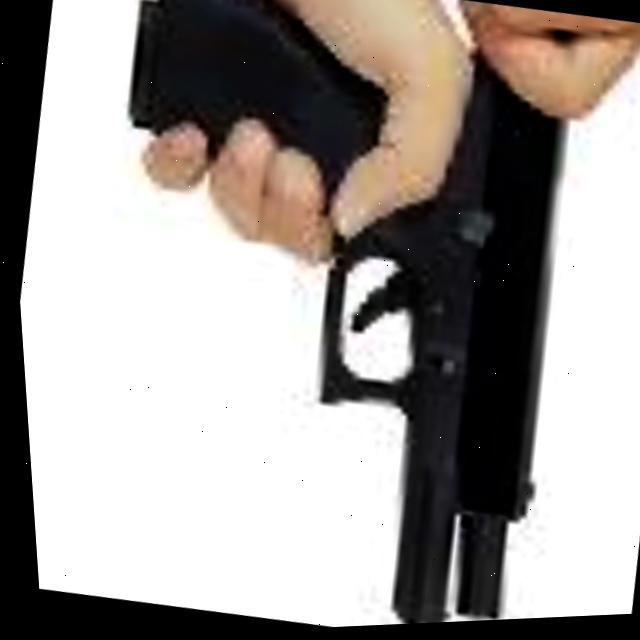pistol: (41, 0, 621, 639)
